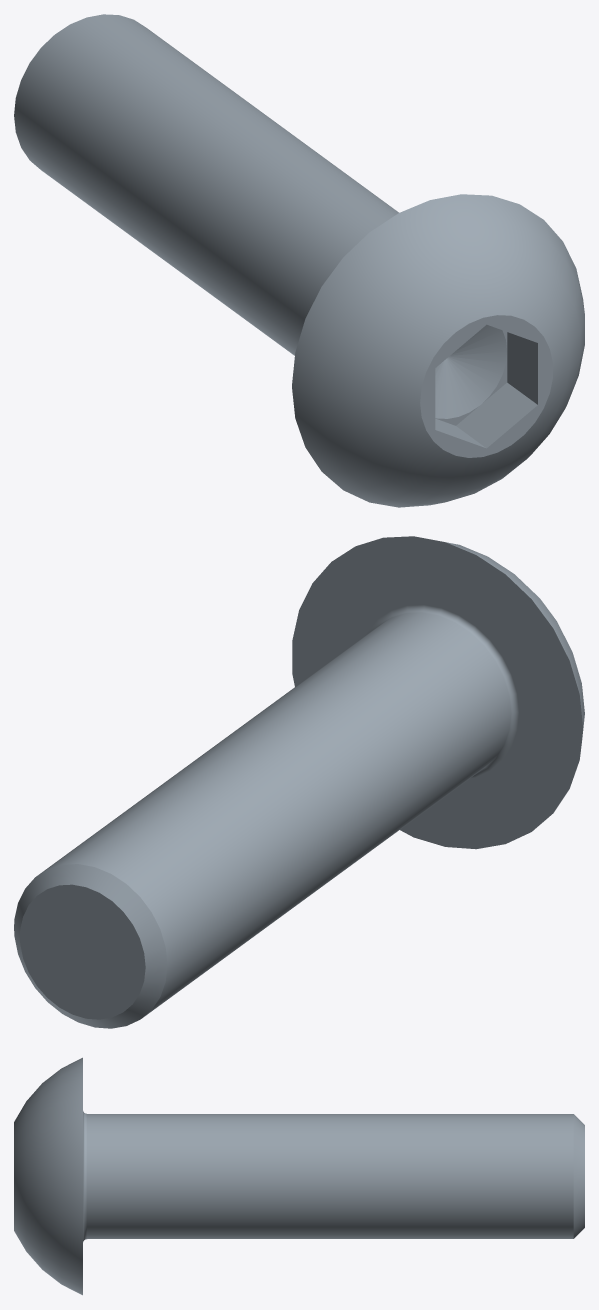
The model's file is Socket_button_head_screw_M3x0_5_x_12.obj.
3 views of the same model, one above another, from view 1: azimuth 30°, elevation 25°; view 2: azimuth 150°, elevation 25°; view 3: azimuth 270°, elevation 25° (orthographic). The views are drawn at different scales.
Parts seen in each view (by area): view 1: mesh239, mesh242, mesh243, mesh251, mesh248, mesh249; view 2: mesh239, mesh241, mesh237, mesh238, mesh240, mesh242; view 3: mesh239, mesh242, mesh238, mesh240.
Boxes of the visible parts, x1,y1,x2,y2 form: mesh239: (14,14,398,355); mesh242: (292,194,584,507); mesh243: (420,315,552,457); mesh251: (435,324,506,418); mesh248: (456,382,537,448); mesh249: (507,332,537,404); mesh239: (36,612,510,1018); mesh241: (292,536,582,849); mesh237: (20,884,145,1019); mesh238: (14,864,167,1028); mesh240: (365,605,519,778); mesh242: (446,542,584,756); mesh239: (87,1114,573,1238); mesh242: (14,1057,82,1295); mesh238: (573,1114,584,1238); mesh240: (83,1111,87,1241).
Bounding box in the file's own units: 0.00568 × 0.00569 × 0.0137.
